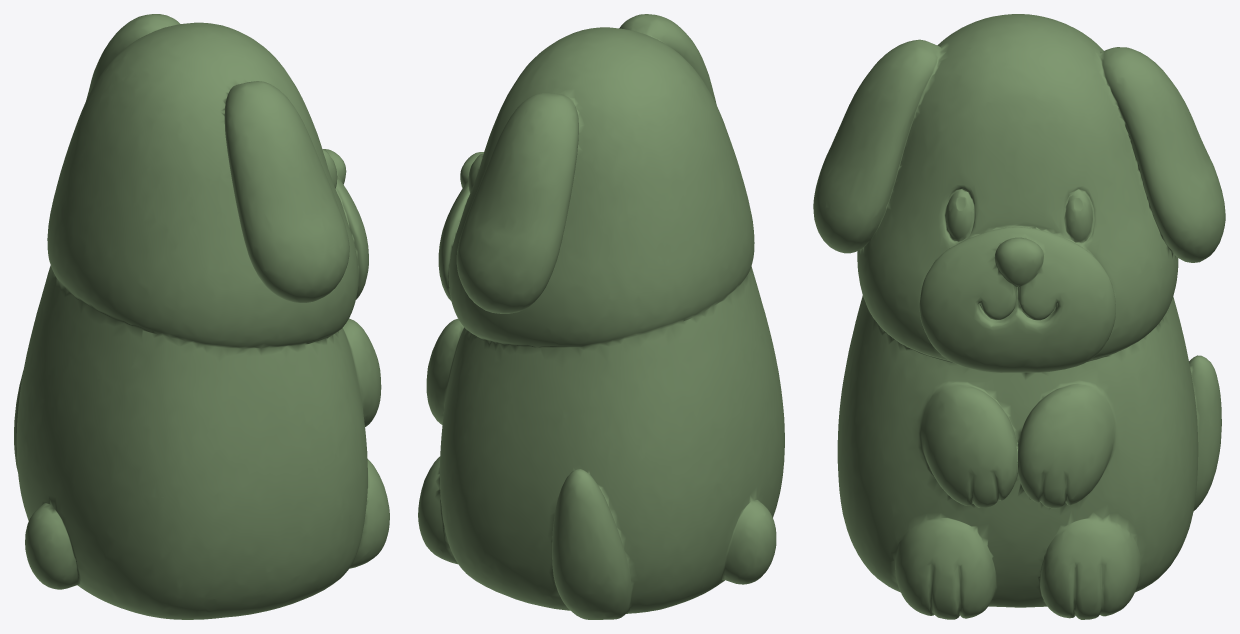
File: cozy-dog.glb
The picture shows the model from 3 angles, left to right: view 1: azimuth 30°, elevation 25°; view 2: azimuth 150°, elevation 25°; view 3: azimuth 270°, elevation 25°; orthographic projection. The views are drawn at different scales.
Parts seen in each view (by area): view 1: tripo_printable_source; view 2: tripo_printable_source; view 3: tripo_printable_source.
Part boxes in pixels (x1,y1,x2,y2): tripo_printable_source: [14, 14, 389, 619]; tripo_printable_source: [418, 14, 784, 619]; tripo_printable_source: [813, 14, 1225, 619].
Bounding box in the file's own units: 64.87 × 100 × 70.
